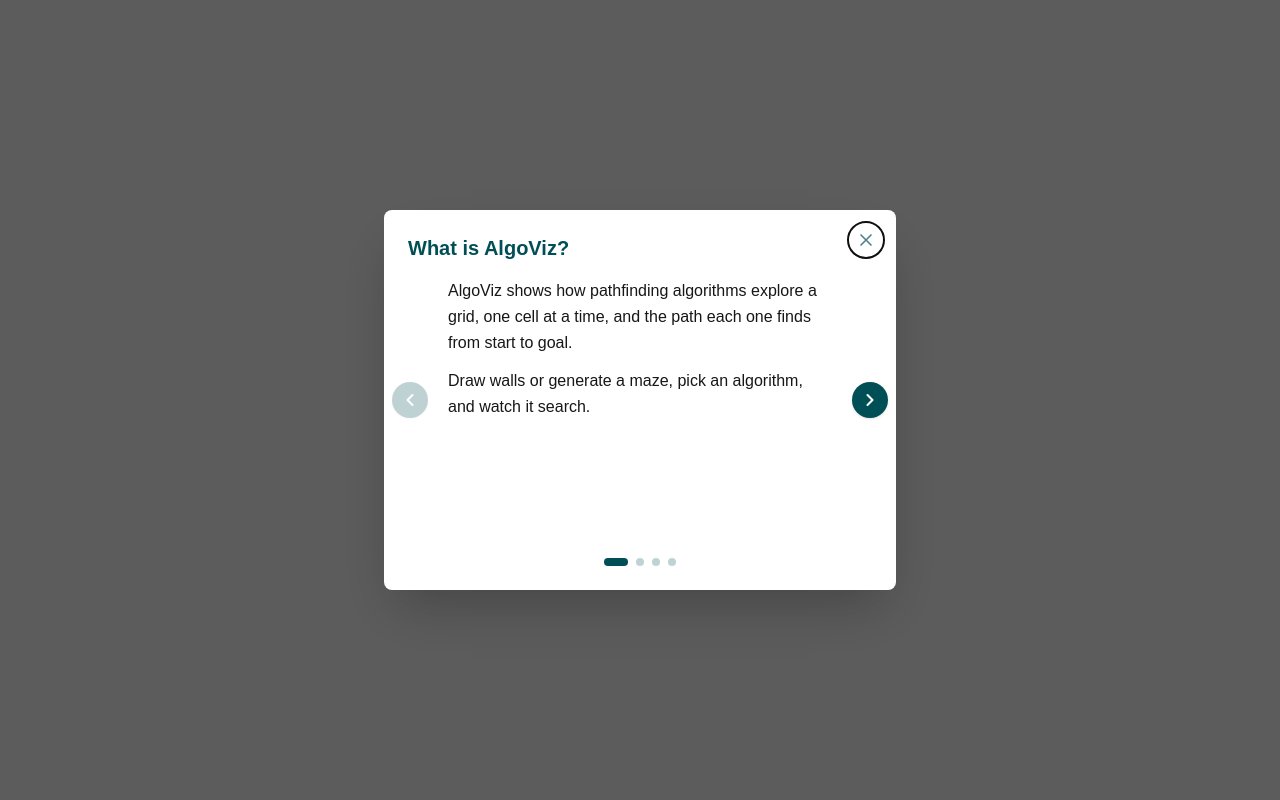
InfoModal › a dot jumps straight to its slide
Click the button named "Go to slide".
click(672, 562)  # box [668,558,676,566]
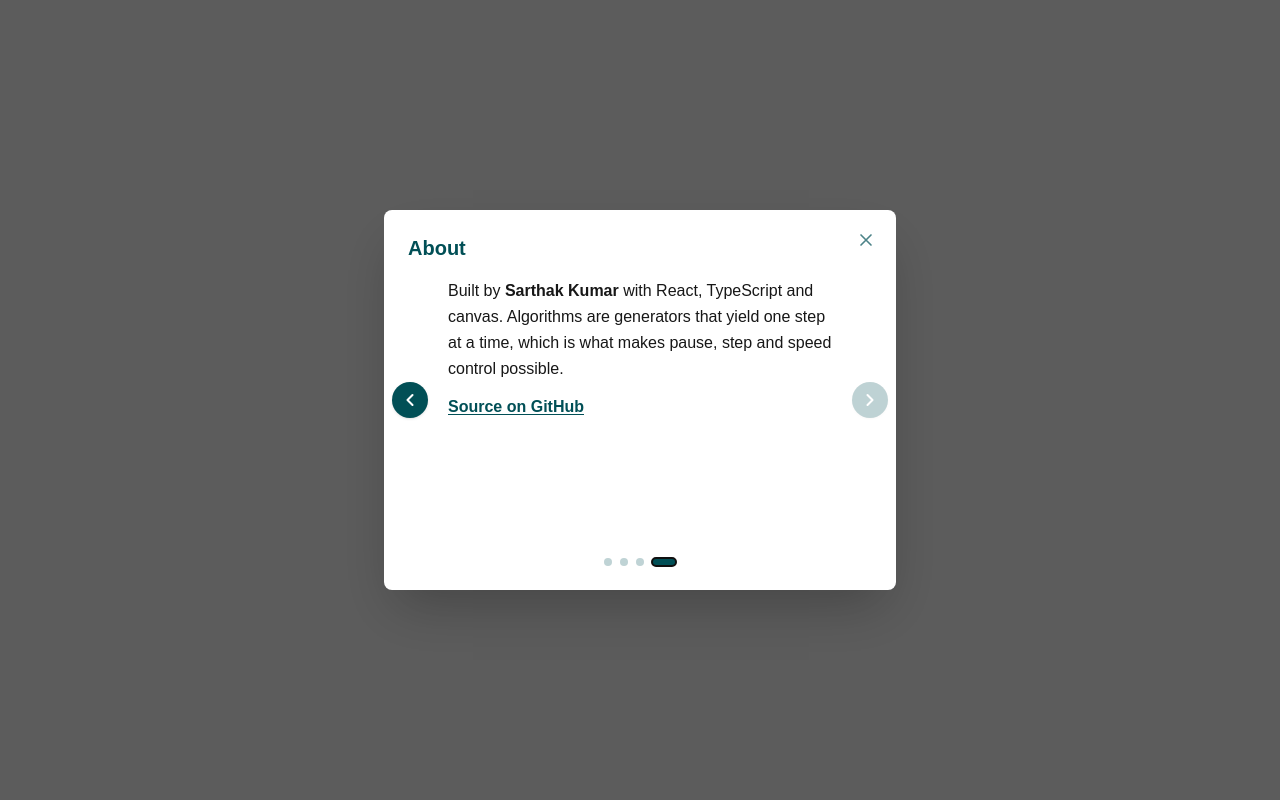
Expected: the heading reads "About", [408,237,466,259]
